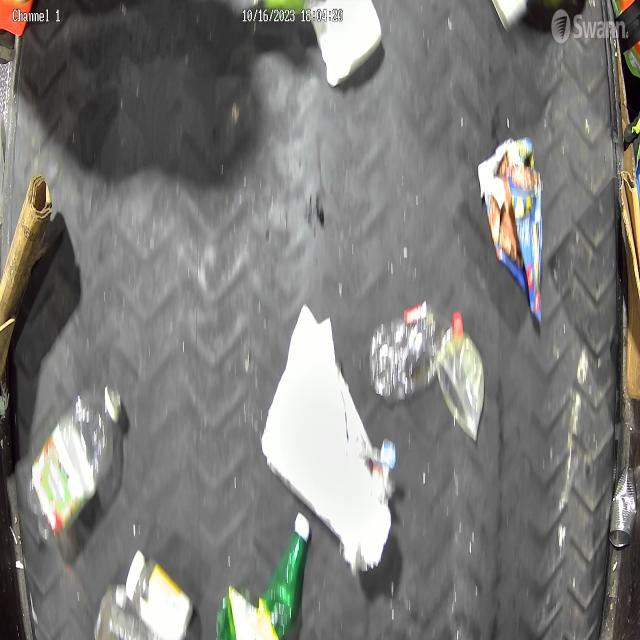plastic_bottle: (262, 307, 390, 553), (30, 382, 128, 542), (372, 307, 467, 400)
